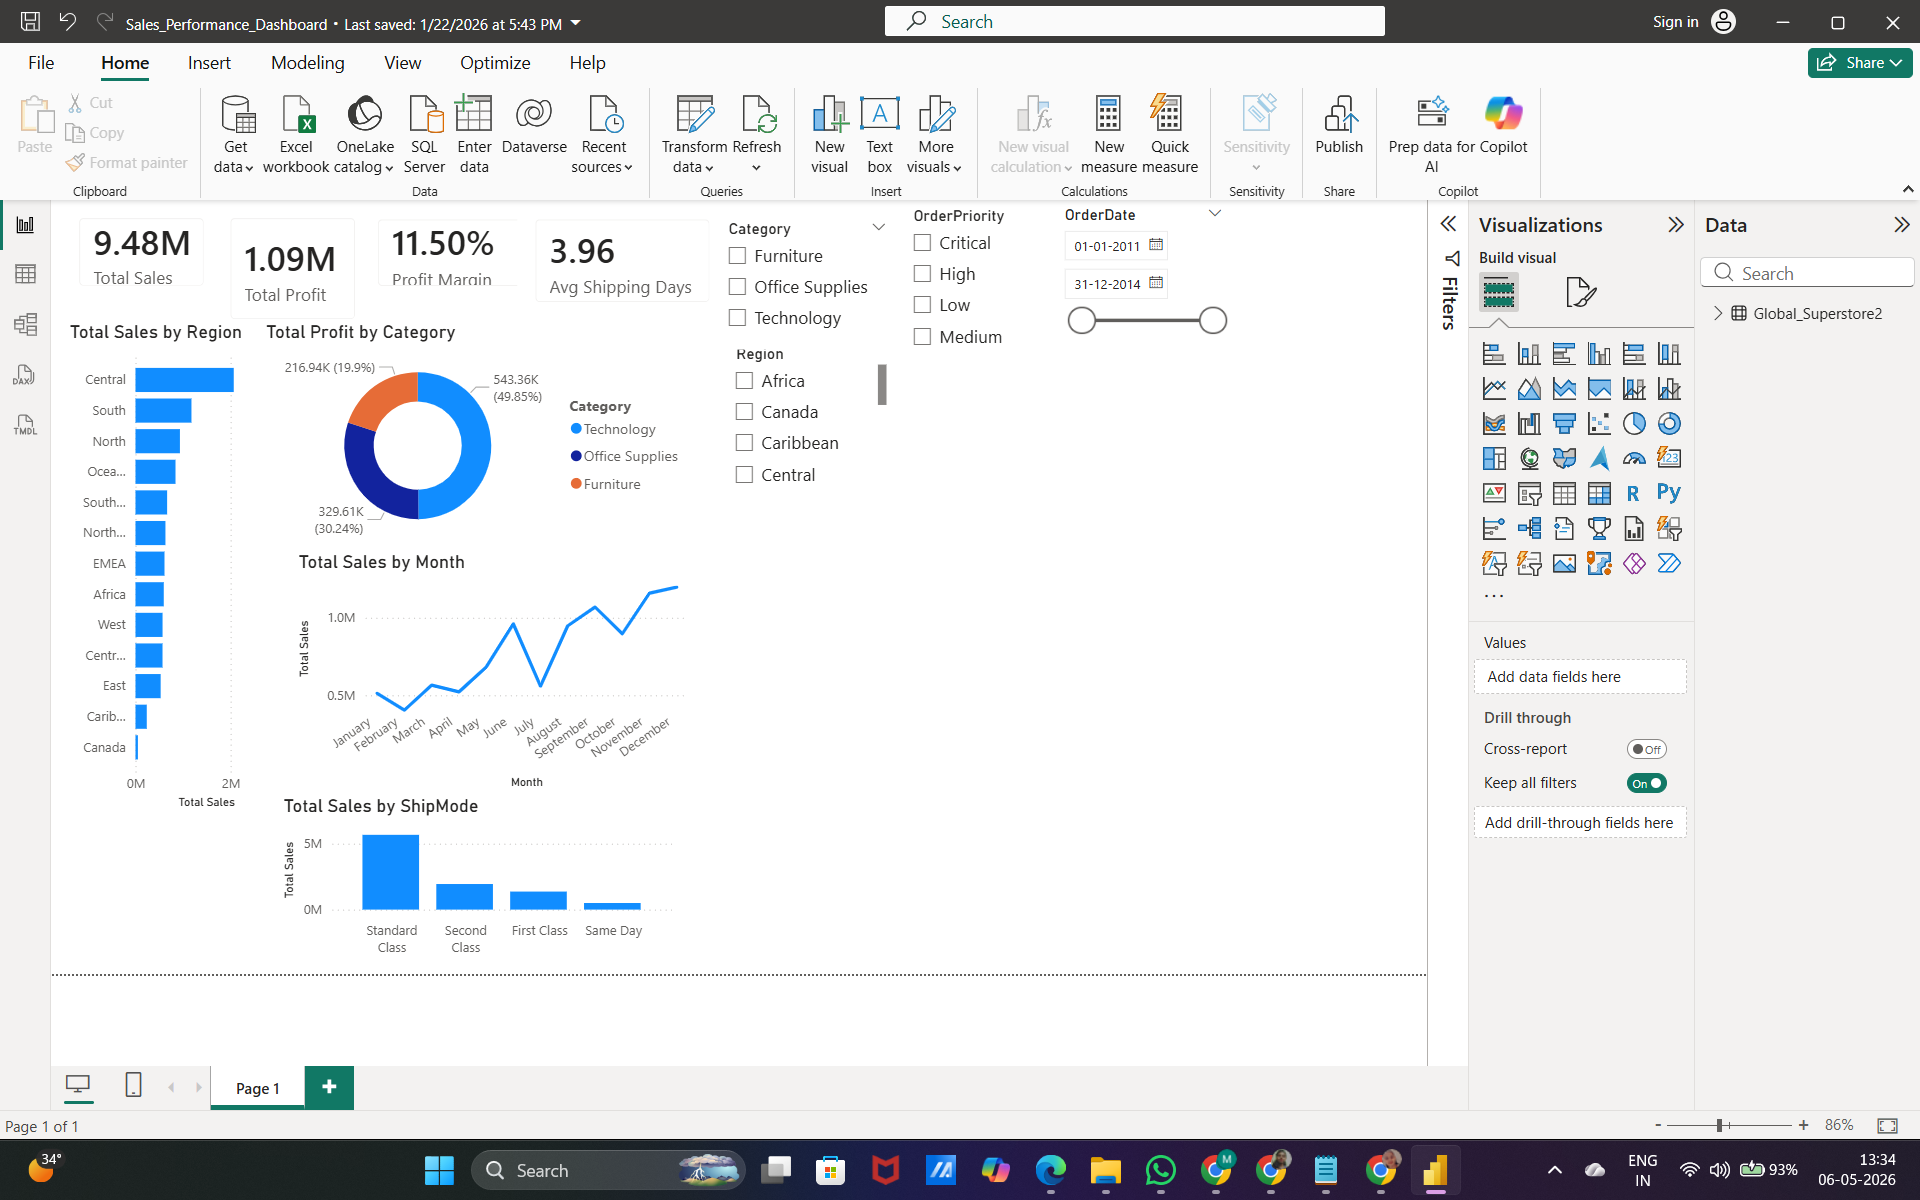

The page's visual inventory and layout, read from the dashboard file:
{"tool":"powerbi","page":{"name":"Page 1","canvas":[1280,720],"ordinal":0},"visuals":[{"type":"cardVisual","fields":{"Data":["Global_Superstore2.Total Sales"]},"box":[9.6,0,150.9,97.4],"z":0},{"type":"cardVisual","fields":{"Data":["Global_Superstore2.Total Profit"]},"box":[149.6,0,150.9,129],"z":1},{"type":"cardVisual","fields":{"Data":["Global_Superstore2.Profit Margin"]},"box":[286.8,1.4,181.1,96.1],"z":2},{"type":"cardVisual","fields":{"Data":["Global_Superstore2.Avg Shipping Days"]},"box":[433.6,1.4,196.2,111.1],"z":3},{"type":"barChart","fields":{"Category":["Global_Superstore2.Region"],"Y":["Global_Superstore2.Total Sales"]},"box":[12.3,112.5,212.7,458.3],"z":4},{"type":"donutChart","fields":{"Category":["Global_Superstore2.Category"],"Y":["Global_Superstore2.Total Profit"]},"box":[194.9,112.5,402.1,212.7],"z":5},{"type":"lineChart","fields":{"Category":["Global_Superstore2.OrderDate.Variation.Date Hierarchy.Month"],"Y":["Global_Superstore2.Total Sales"]},"box":[225,326.6,371.9,226.4],"z":6},{"type":"columnChart","fields":{"Category":["Global_Superstore2.ShipMode"],"Y":["Global_Superstore2.Total Sales"]},"box":[211.3,553,371.9,157.8],"z":7},{"type":"slicer","fields":{"Values":["Global_Superstore2.Region"]},"box":[624,129,158,129],"z":8},{"type":"slicer","fields":{"Values":["Global_Superstore2.Category"]},"box":[617.5,12.3,171.5,126.2],"z":9},{"type":"slicer","fields":{"Values":["Global_Superstore2.OrderPriority"]},"box":[789,1.4,171.5,155.1],"z":10},{"type":"slicer","fields":{"Values":["Global_Superstore2.OrderDate"]},"box":[930.4,0,171.5,157.8],"z":11}]}

Visuals, with their boxes on the page's 1280x720 design canvas (x1, y1, x2, y2). These are canvas units, not pixel positions in the 1920x1200 screenshot, which may show the page scaled, cropped or inside an application window:
cardVisual - Global_Superstore2.Total Sales: l=10, t=0, r=160, b=97
cardVisual - Global_Superstore2.Total Profit: l=150, t=0, r=300, b=129
cardVisual - Global_Superstore2.Profit Margin: l=287, t=1, r=468, b=98
cardVisual - Global_Superstore2.Avg Shipping Days: l=434, t=1, r=630, b=112
barChart - Global_Superstore2.Region x Global_Superstore2.Total Sales: l=12, t=112, r=225, b=571
donutChart - Global_Superstore2.Category x Global_Superstore2.Total Profit: l=195, t=112, r=597, b=325
lineChart - Global_Superstore2.OrderDate.Variation.Date Hierarchy.Month x Global_Superstore2.Total Sales: l=225, t=327, r=597, b=553
columnChart - Global_Superstore2.ShipMode x Global_Superstore2.Total Sales: l=211, t=553, r=583, b=711
slicer - Global_Superstore2.Region: l=624, t=129, r=782, b=258
slicer - Global_Superstore2.Category: l=618, t=12, r=789, b=138
slicer - Global_Superstore2.OrderPriority: l=789, t=1, r=960, b=156
slicer - Global_Superstore2.OrderDate: l=930, t=0, r=1102, b=158
